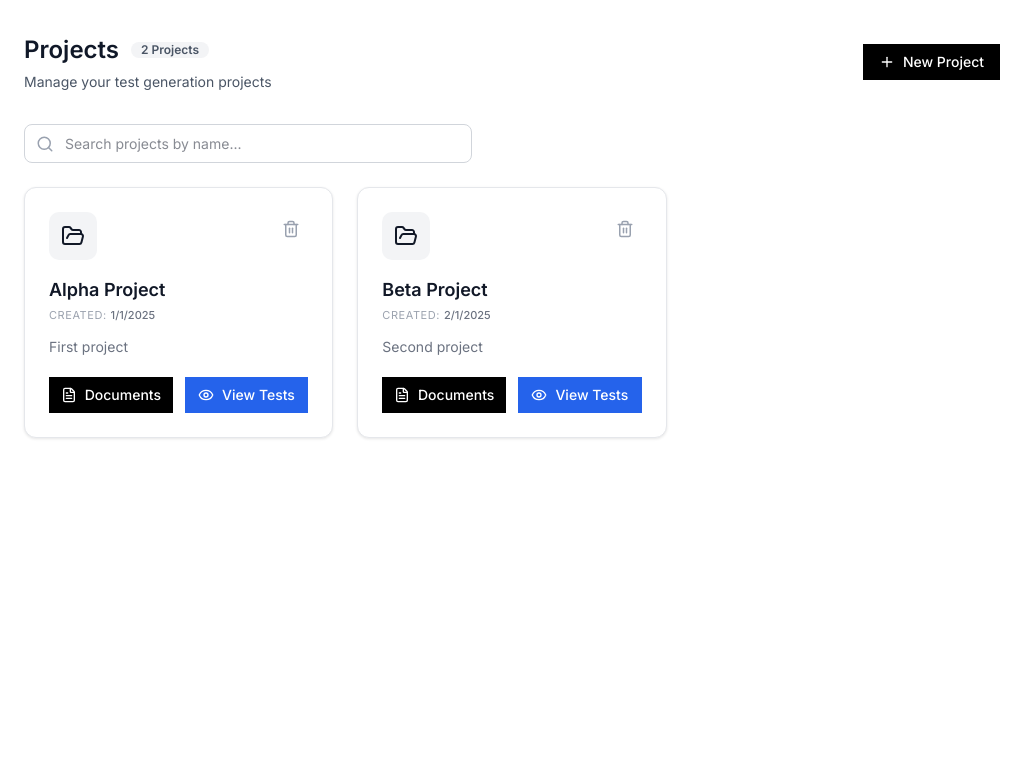
Scenario: ProjectsView – New Project modal › opens the Create New Project modal on button click
Click the button "New Project" at (931, 62), box 863,44 -> 1000,80
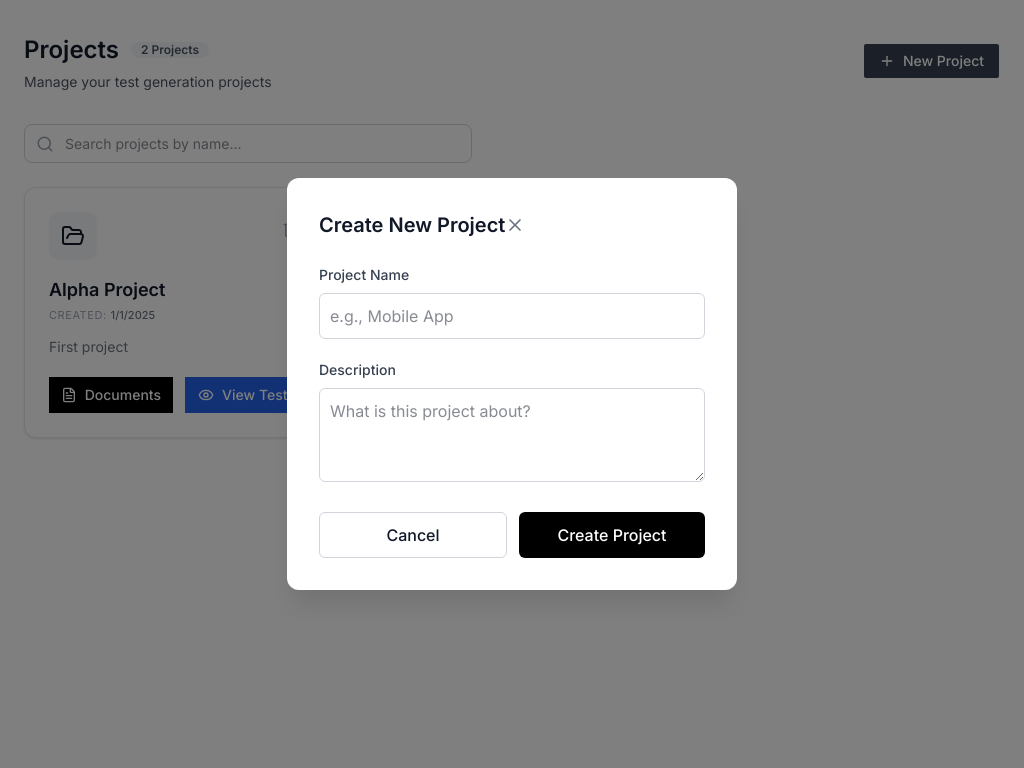
Check: the heading "Create New Project" is shown, box 319,210 -> 505,240
